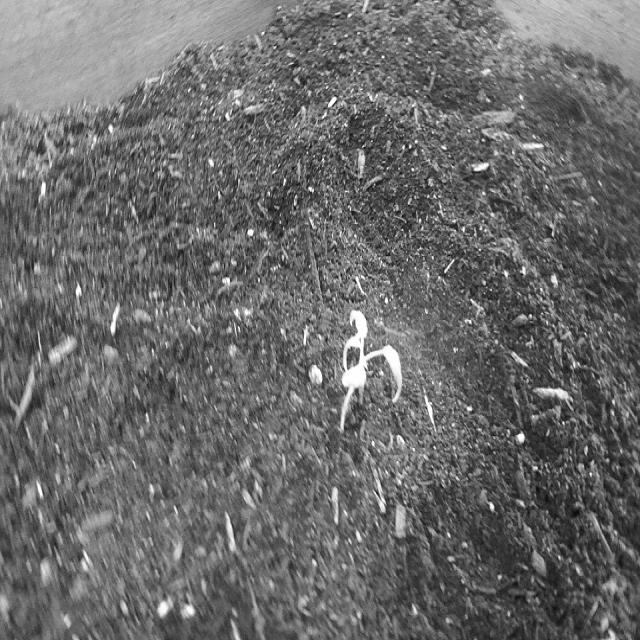Healthy: (336, 304, 407, 439)
